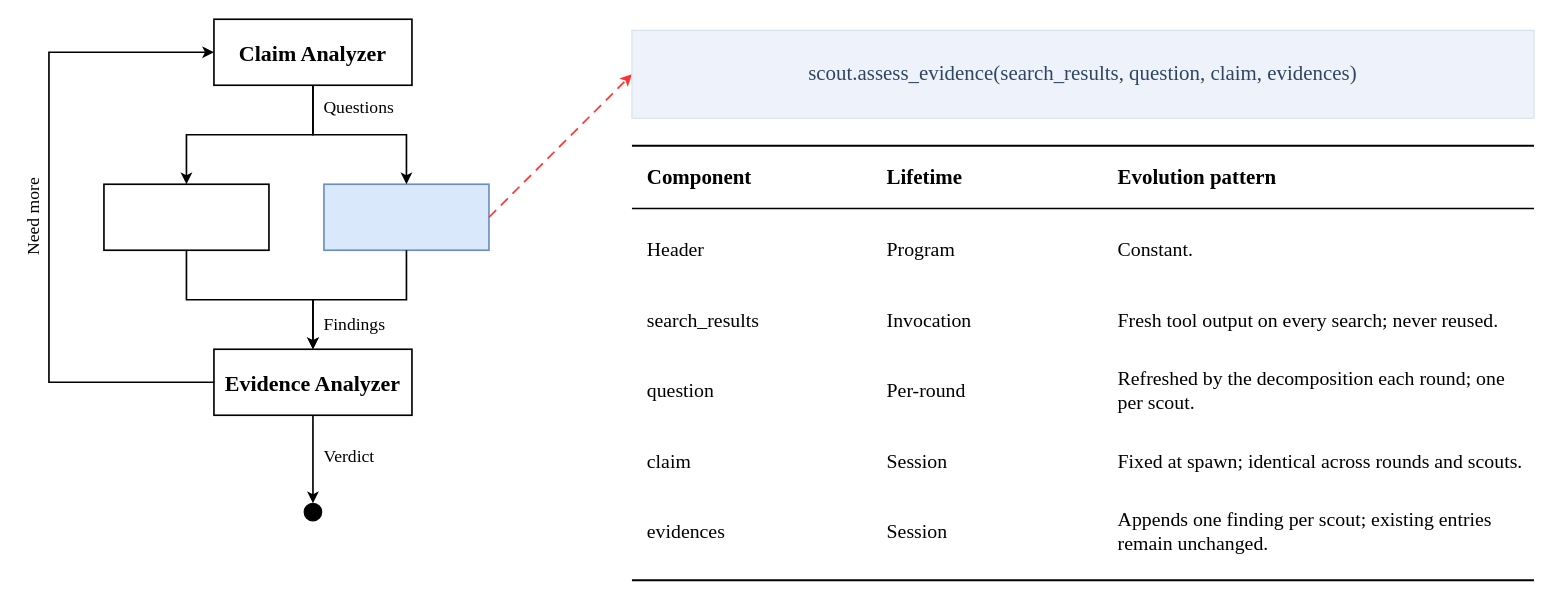
The diagram is 1554 pixels wide and 602 high, and some of its shapes have lost their labels. The box of each missing label's shape, as (x1, y1, x2, y2) in pixels:
Scout 0: (103, 183, 269, 251)
Scout 1: (323, 183, 489, 251)
